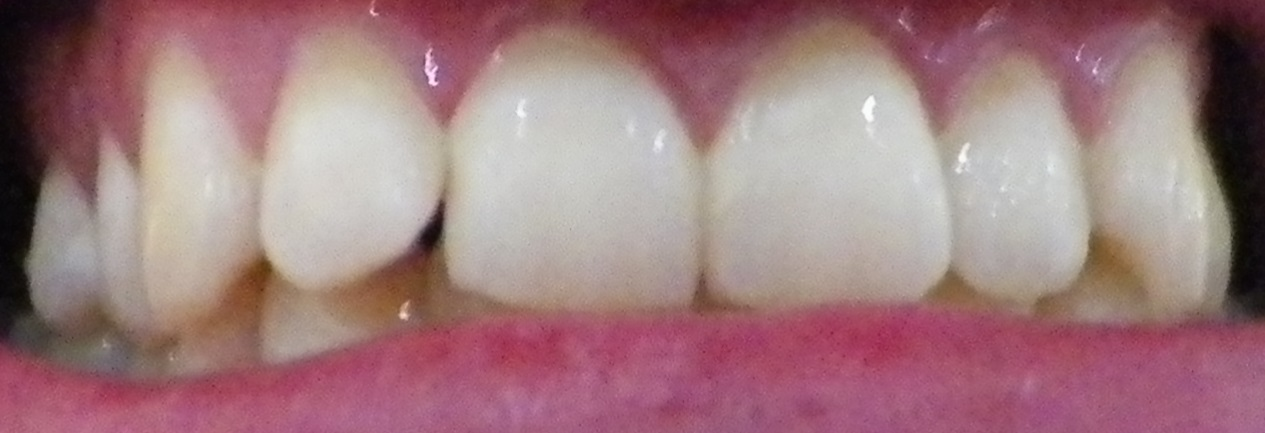boca: (21, 27, 1240, 380)
